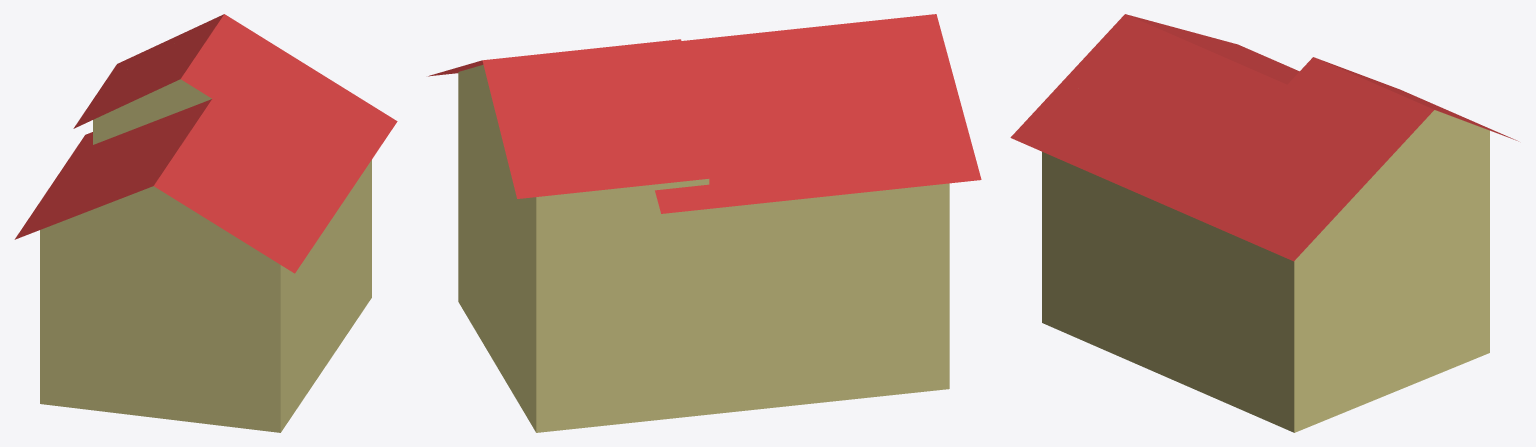
The picture shows the model from 3 angles, left to right: view 1: azimuth 30°, elevation 25°; view 2: azimuth 150°, elevation 25°; view 3: azimuth 270°, elevation 25°; orthographic projection. The views are drawn at different scales.
Bounding box in the file's own units: 17.2 × 17.13 × 10.31.
